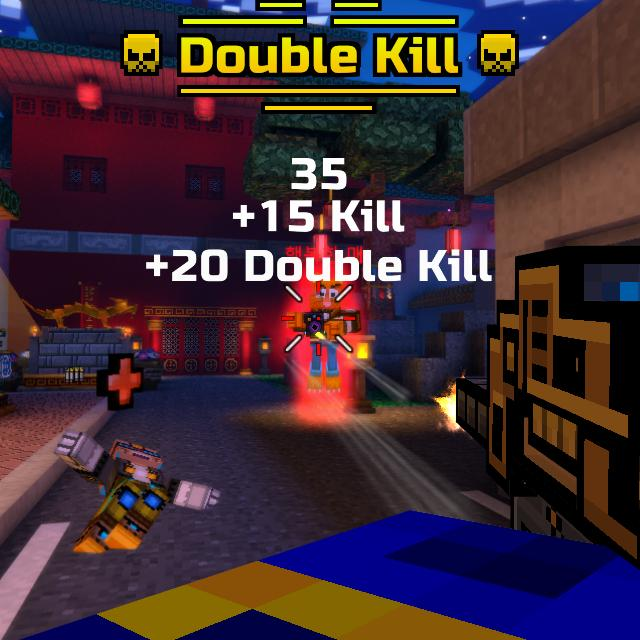Enemy: (287, 281, 359, 393)
